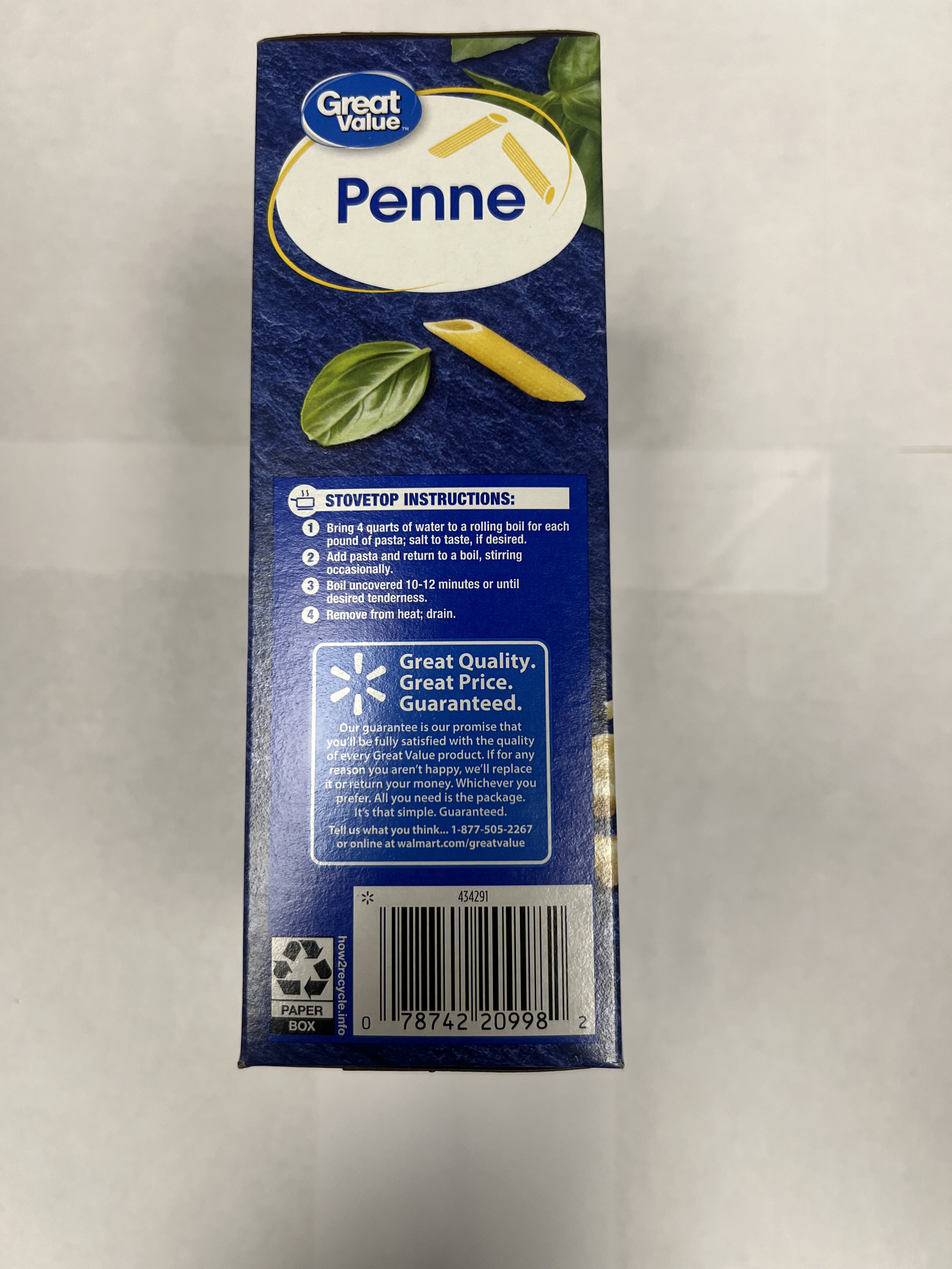packaged: (236, 23, 630, 1083)
